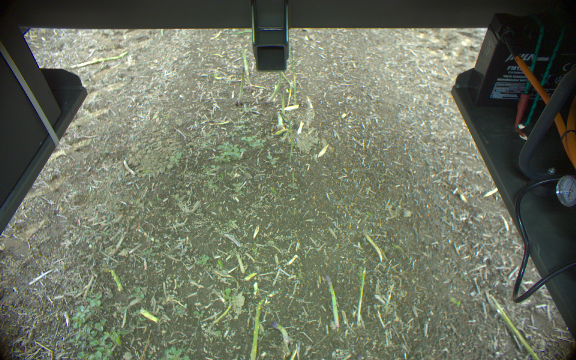aspa: (249, 297, 265, 360), (322, 274, 339, 327), (352, 269, 367, 327), (265, 73, 283, 103), (271, 321, 291, 347), (235, 69, 248, 104), (106, 268, 123, 294), (241, 47, 252, 83)
